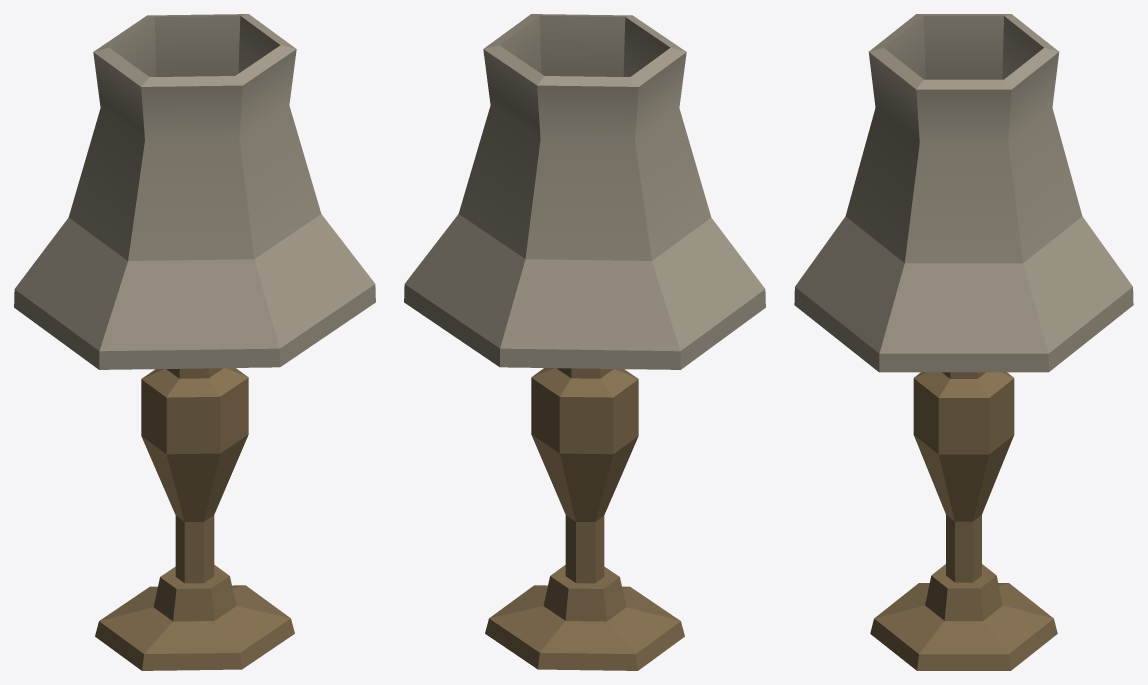
Rendered from SM_Prop_Lamp_01.glb.
3 views of the same model, side by side, from view 1: azimuth 30°, elevation 25°; view 2: azimuth 150°, elevation 25°; view 3: azimuth 270°, elevation 25° (orthographic).
Parts seen in each view (by area): view 1: SM_Prop_Lamp_01; view 2: SM_Prop_Lamp_01; view 3: SM_Prop_Lamp_01.
Part boxes in pixels (x1,y1,x2,y2): SM_Prop_Lamp_01: [14, 14, 375, 670]; SM_Prop_Lamp_01: [404, 14, 765, 670]; SM_Prop_Lamp_01: [794, 14, 1133, 670].
Size of the model in its own units: 0.3843 by 0.7812 by 0.4097.
1 material, 1 textured.
